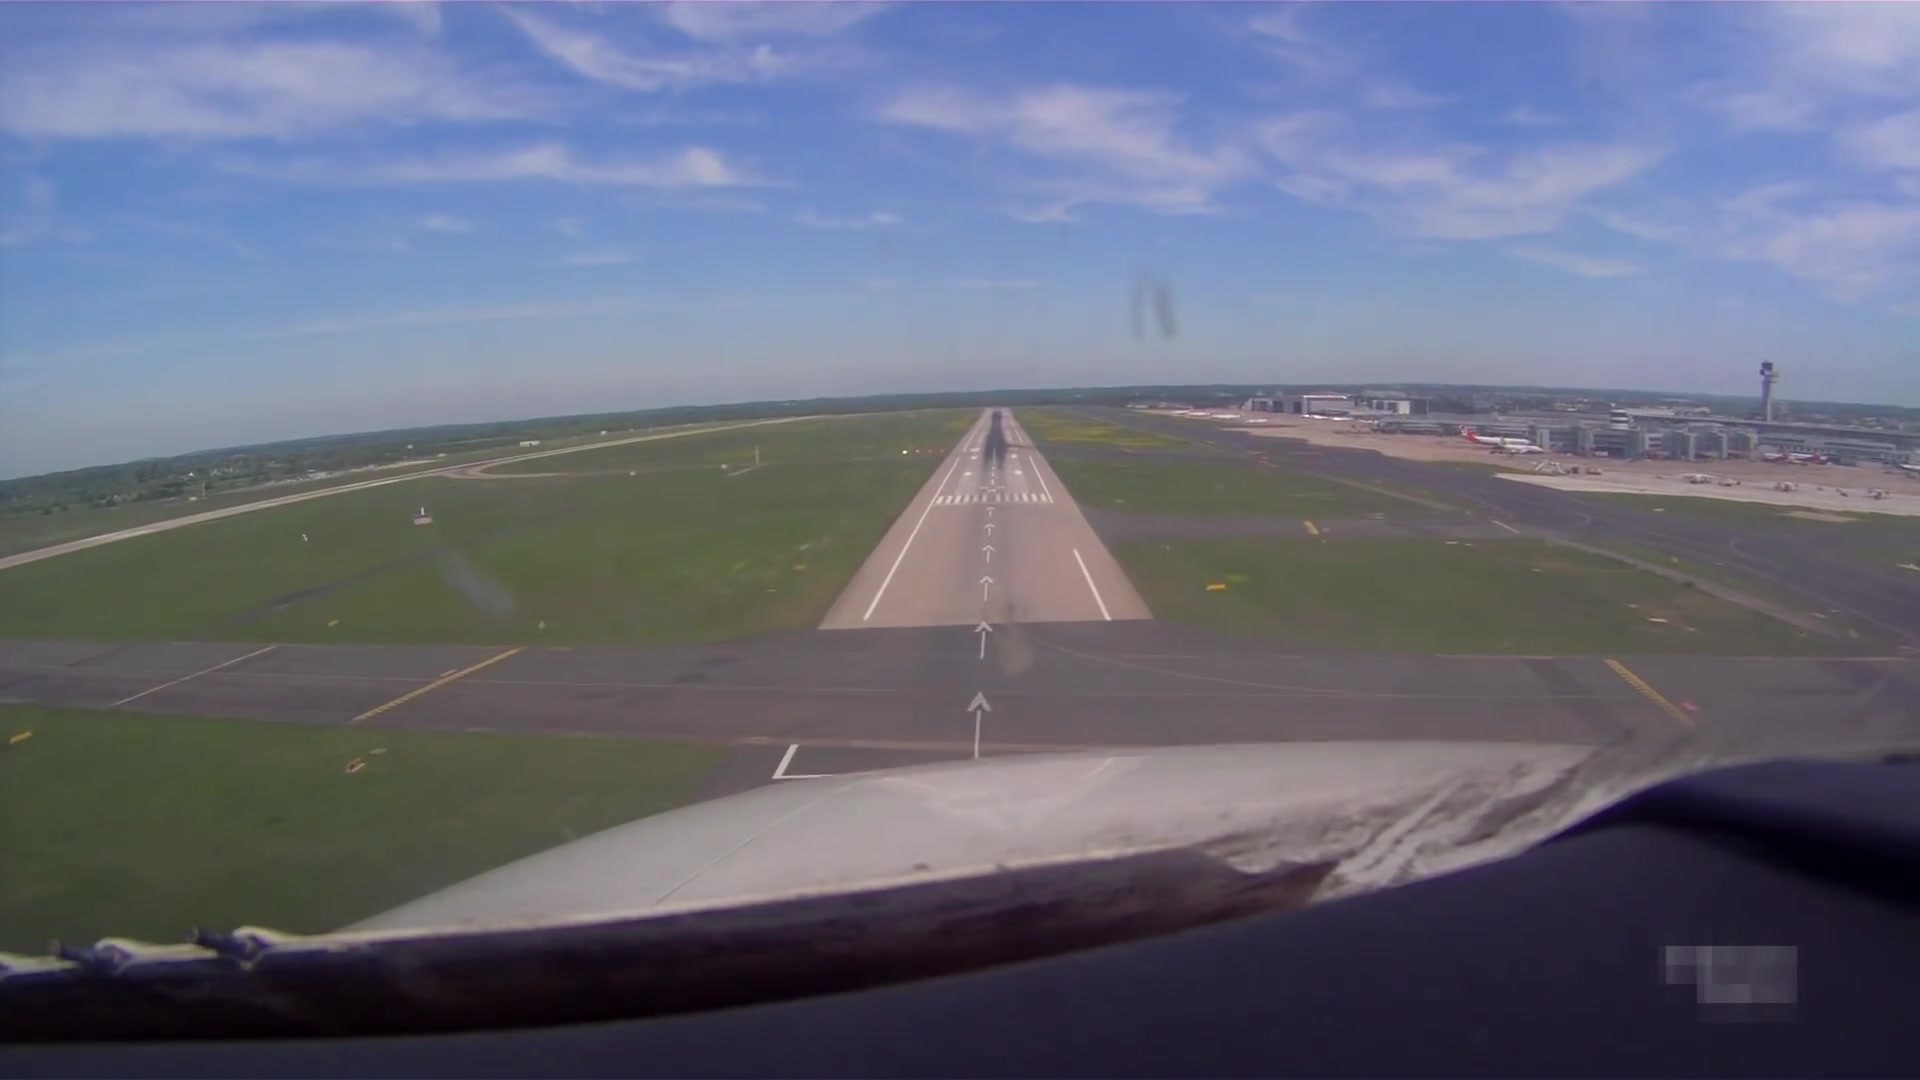entrance: (931, 491, 1058, 512)
runway: (808, 400, 1160, 630)
